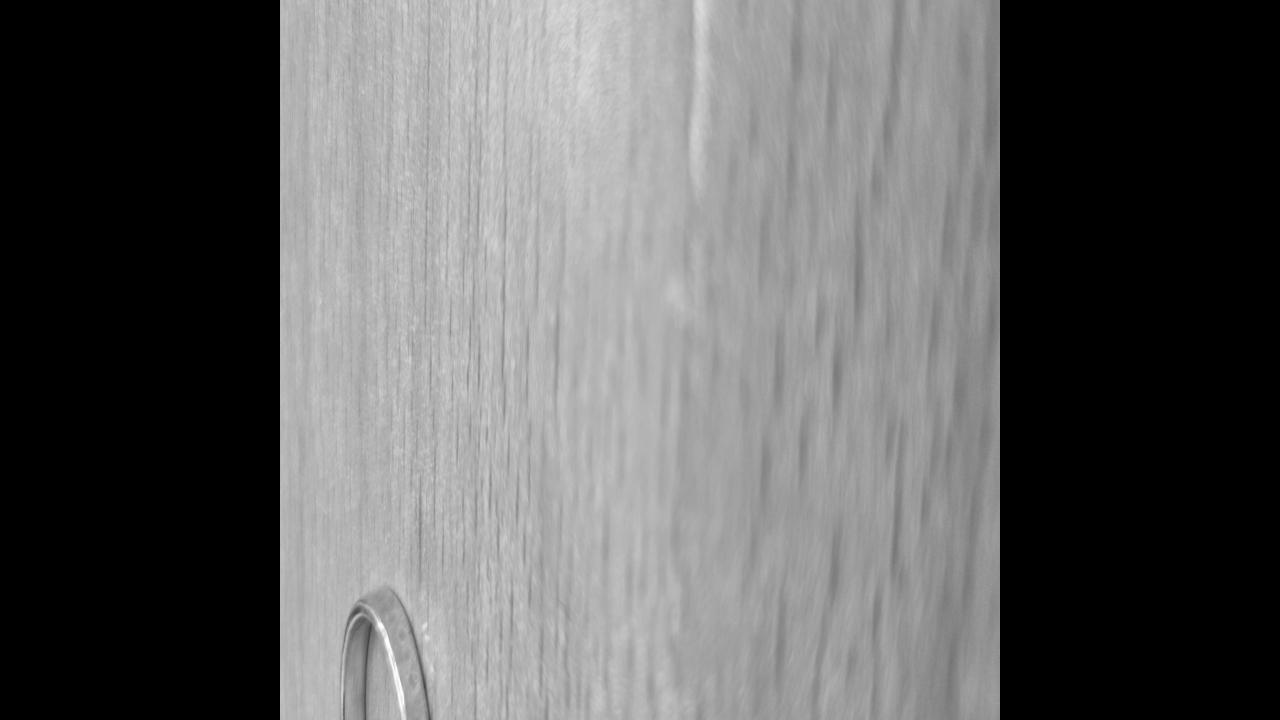ring: (338, 581, 438, 720)
